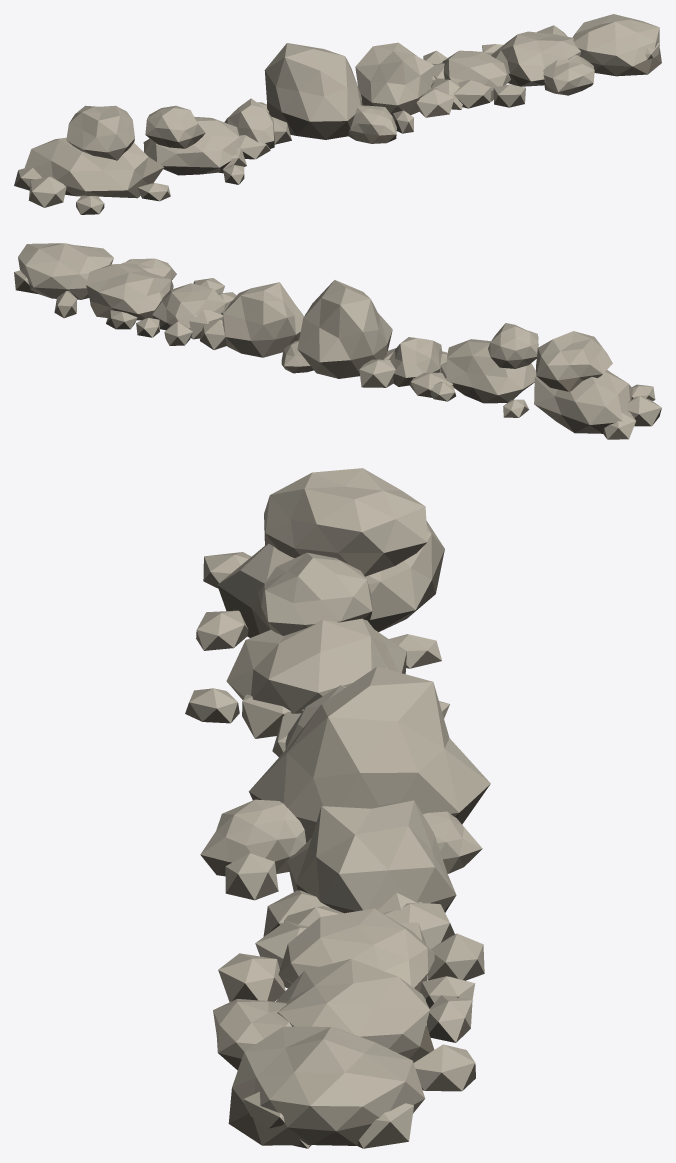
The model's file is stone_hazard_three_lane_C.glb.
3 renders of one model, top to bottom at view 1: azimuth 30°, elevation 25°; view 2: azimuth 150°, elevation 25°; view 3: azimuth 270°, elevation 25°, orthographic. The views are drawn at different scales.
Parts seen in each view (by area): view 1: stone_hazard_three_lane_C; view 2: stone_hazard_three_lane_C; view 3: stone_hazard_three_lane_C.
Boxes of the visible parts, left/top/right/bottom form: stone_hazard_three_lane_C: left=14, top=14, right=661, bottom=214; stone_hazard_three_lane_C: left=14, top=243, right=661, bottom=439; stone_hazard_three_lane_C: left=185, top=468, right=490, bottom=1148.
Bounding box in the file's own units: 7.26 × 0.8024 × 1.53.
